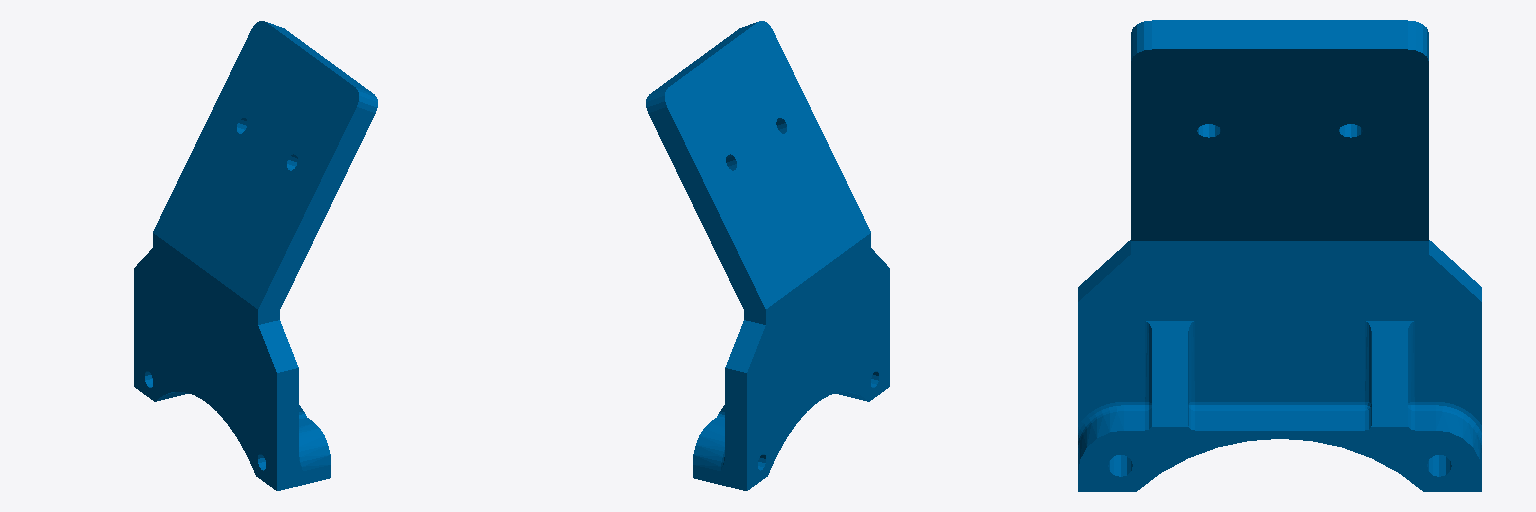
The robot description file, URDF, robot "R5a":
<?xml version="1.0"?>
<robot name="R5a">
  <link name="base_link">
    <inertial>
      <origin xyz="-0.00013359 6.672E-05 0.031672"/>
      <mass value="0.42272"/>
      <inertia ixx="0.00019" ixy="0.00000" ixz="0.00000" iyy="0.00019" iyz="0.00000" izz="0.00020"/>
    </inertial>
    <visual>
      <geometry>
        <mesh filename="../meshes/base_link.obj"/>
      </geometry>
    </visual>
    <collision>
      <geometry>
        <mesh filename="../meshes/base_link.obj"/>
      </geometry>
    </collision>
  </link>
  <link name="link1">
    <inertial>
      <origin xyz="0.0050395 -0.0077407 0.020897"/>
      <mass value="0.096804"/>
      <inertia ixx="0.00011" ixy="-0.00001" ixz="0.00001" iyy="0.00005" iyz="-0.00001" izz="0.00010"/>
    </inertial>
    <visual>
      <geometry>
        <mesh filename="../meshes/link1.obj"/>
      </geometry>
    </visual>
    <collision>
      <geometry>
        <mesh filename="../meshes/link1.obj"/>
      </geometry>
    </collision>
  </link>
  <joint name="joint1" type="revolute">
    <origin xyz="0 0 0.0565"/>
    <parent link="base_link"/>
    <child link="link1"/>
    <axis xyz="0 0 1"/>
    <limit lower="-2.618" upper="2.168" effort="100" velocity="5"/>
  </joint>
  <link name="link2">
    <inertial>
      <origin xyz="-0.12992 -0.0011822 -2.6366E-05"/>
      <mass value="1.1988"/>
      <inertia ixx="0.00065" ixy="0.00008" ixz="0.00000" iyy="0.01647" iyz="0.00000" izz="0.01646"/>
    </inertial>
    <visual>
      <geometry>
        <mesh filename="../meshes/link2.obj"/>
      </geometry>
    </visual>
    <collision>
      <geometry>
        <mesh filename="../meshes/link2.obj"/>
      </geometry>
    </collision>
  </link>
  <joint name="joint2" type="revolute">
    <origin xyz="0.02 0 0.047"/>
    <parent link="link1"/>
    <child link="link2"/>
    <axis xyz="0 1 0"/>
    <limit lower="0" upper="3.66" effort="100" velocity="5"/>
  </joint>
  <link name="link3">
    <inertial>
      <origin xyz="0.16181 0.0011723 -0.05455"/>
      <mass value="0.84082"/>
      <inertia ixx="0.00082" ixy="0.00008" ixz="-0.00074" iyy="0.00849" iyz="0.00001" izz="0.00834"/>
    </inertial>
    <visual>
      <geometry>
        <mesh filename="../meshes/link3.obj"/>
      </geometry>
    </visual>
    <collision>
      <geometry>
        <mesh filename="../meshes/link3.obj"/>
      </geometry>
    </collision>
  </link>
  <joint name="joint3" type="revolute">
    <origin xyz="-0.264 0 0" rpy="-3.1416 0 0"/>
    <parent link="link2"/>
    <child link="link3"/>
    <axis xyz="0 1 0"/>
    <limit lower="0" upper="3.14" effort="100" velocity="5"/>
  </joint>
  <link name="link4">
    <inertial>
      <origin xyz="0.041751 0.0054236 -0.03337"/>
      <mass value="0.12432"/>
      <inertia ixx="0.00022" ixy="-0.00002" ixz="-0.00009" iyy="0.00025" iyz="0.00002" izz="0.00017"/>
    </inertial>
    <visual>
      <geometry>
        <mesh filename="../meshes/link4.obj"/>
      </geometry>
    </visual>
    <collision>
      <geometry>
        <mesh filename="../meshes/link4.obj"/>
      </geometry>
    </collision>
  </link>
  <joint name="joint4" type="revolute">
    <origin xyz="0.245 -5E-05 -0.06"/>
    <parent link="link3"/>
    <child link="link4"/>
    <axis xyz="0 1 0"/>
    <limit lower="-1.57" upper="1.57" effort="100" velocity="5"/>
  </joint>
  <link name="link5">
    <inertial>
      <origin xyz="-8.3435E-05 -1.5428E-05 0.052216"/>
      <mass value="0.63601"/>
      <inertia ixx="0.00084" ixy="0.00000" ixz="0.00007" iyy="0.00082" iyz="0.00000" izz="0.00026"/>
    </inertial>
    <visual>
      <geometry>
        <mesh filename="../meshes/link5.obj"/>
      </geometry>
    </visual>
    <collision>
      <geometry>
        <mesh filename="../meshes/link5.obj"/>
      </geometry>
    </collision>
  </link>
  <joint name="joint5" type="revolute">
    <origin xyz="0.0702 5E-05 -0.083391"/>
    <parent link="link4"/>
    <child link="link5"/>
    <axis xyz="0 0 1"/>
    <limit lower="-1.57" upper="1.57" effort="100" velocity="5"/>
  </joint>
  <link name="link6">
    <inertial>
      <origin xyz="0.041697 2.4368E-05 0.00014464"/>
      <mass value="0.44089"/>
      <inertia ixx="0.00038" ixy="0.00000" ixz="0.00000" iyy="0.00028" iyz="0.00000" izz="0.00050"/>
    </inertial>
    <visual>
      <geometry>
        <mesh filename="../meshes/link6.obj"/>
      </geometry>
    </visual>
    <collision>
      <geometry>
        <mesh filename="../meshes/link6.obj"/>
      </geometry>
    </collision>
  </link>
  <joint name="joint6" type="revolute">
    <origin xyz="0.025286 0 0.083391" rpy="3.1416 0 0"/>
    <parent link="link5"/>
    <child link="link6"/>
    <axis xyz="1 0 0"/>
    <limit lower="-1.57" upper="1.57" effort="100" velocity="5"/>
  </joint>
  <link name="link7">
    <inertial>
      <origin xyz="-0.00035522 -0.007827 -0.0029883"/>
      <mass value="0.064798"/>
      <inertia ixx="0.00002" ixy="0.00000" ixz="0.00000" iyy="0.00003" iyz="0.00000" izz="0.00003"/>
    </inertial>
    <visual>
      <geometry>
        <mesh filename="../meshes/link7.obj"/>
      </geometry>
    </visual>
    <collision>
      <geometry>
        <mesh filename="../meshes/link7.obj"/>
      </geometry>
    </collision>
  </link>
  <joint name="joint7" type="prismatic">
    <origin xyz="0.08657 0.024896 -0.0002436"/>
    <parent link="link6"/>
    <child link="link7"/>
    <axis xyz="0 1 0"/>
    <limit lower="0" upper="0.044" effort="100" velocity="5"/>
  </joint>
  <link name="link8">
    <inertial>
      <origin xyz="-0.000355223470270755 0.00782768751820277 0.00242005642879778"/>
      <mass value="0.0647981725781684"/>
      <inertia ixx="0.00002" ixy="0.00000" ixz="0.00000" iyy="0.00003" iyz="0.00000" izz="0.00003"/>
    </inertial>
    <visual>
      <geometry>
        <mesh filename="../meshes/link8.obj"/>
      </geometry>
    </visual>
    <collision>
      <geometry>
        <mesh filename="../meshes/link8.obj"/>
      </geometry>
    </collision>
  </link>
  <joint name="joint8" type="prismatic">
    <origin xyz="0.08657 -0.0249 -0.00024366"/>
    <parent link="link6"/>
    <child link="link8"/>
    <axis xyz="0 -1 0"/>
    <limit lower="0" upper="0.044" effort="100" velocity="5"/>
    <mimic joint="joint7"/>
  </joint>

  <link name="gripper_center"/>
  <joint name="gripper_center_fixed" type="fixed">
    <parent link="link6"/>
    <child link="gripper_center"/>
    <origin xyz="0.145 0 0" rpy="0 0 0"/>
  </joint>

  <link name="left_pad"/>
  <joint name="left_pad_joint" type="fixed">
    <parent link="link7"/>
    <child link="left_pad"/>
    <origin xyz="0.05843 -0.0249 0" rpy="0 0 0"/>
  </joint>

  <link name="right_pad"/>
  <joint name="right_pad_joint" type="fixed">
    <parent link="link8"/>
    <child link="right_pad"/>
    <origin xyz="0.05843 0.0249 0" rpy="0 0 0"/>
  </joint>

  <link name="camera_support">
    <visual>
      <geometry>
        <mesh filename="../meshes/camera_support.obj"/>
      </geometry>
    </visual>
    <collision>
      <geometry>
        <mesh filename="../meshes/camera_support.obj"/>
      </geometry>
    </collision>
  </link>
  <joint name="camera_support_fixed" type="fixed">
    <parent link="link6"/>
    <child link="camera_support"/>
    <origin xyz="0.045 0 0.021"/>
  </joint>
  <link name="camera">
    <visual>
      <geometry>
        <mesh filename="../meshes/d405.obj"/>
      </geometry>
    </visual>
    <collision>
      <geometry>
        <mesh filename="../meshes/d405.obj"/>
      </geometry>
    </collision>
  </link>
  <joint name="camera_fixed" type="fixed">
    <origin xyz="0.0385 0 0.0475" rpy="0 0.523 0"/>
    <parent link="camera_support"/>
    <child link="camera"/>
  </joint>
</robot>

--- Render facts (derived) ---
3 views of the same robot in one strip: view 1: azimuth 30°, elevation 25°; view 2: azimuth 150°, elevation 25°; view 3: azimuth 270°, elevation 25° (orthographic).
Model R5a with 14 links and 13 joints (6 revolute, 2 prismatic, 5 fixed), rooted at base_link, posed every joint at zero.
Links seen in each view (by area): view 1: camera_support; view 2: camera_support; view 3: camera_support.
Boxes of the visible links, x1,y1,x2,y2 form: camera_support: [134, 21, 377, 490]; camera_support: [646, 21, 889, 490]; camera_support: [1078, 20, 1481, 491].
Size in the robot's own frame: 0.0285 by 0.057 by 0.0788 metres.
Meshes: 11 distinct files referenced, 1 mesh visuals loaded (1 OBJ); not drawn: 10 (reference not matched to a file when rendering).